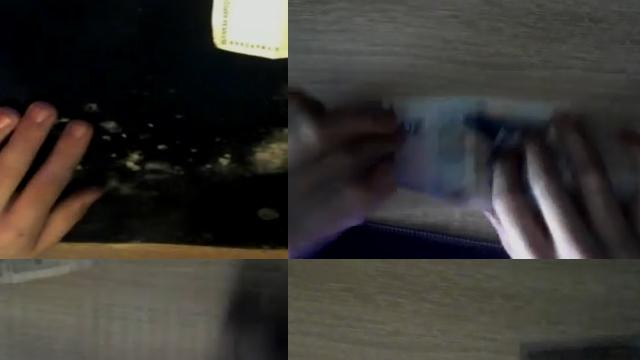20leva: (396, 98, 524, 210)
